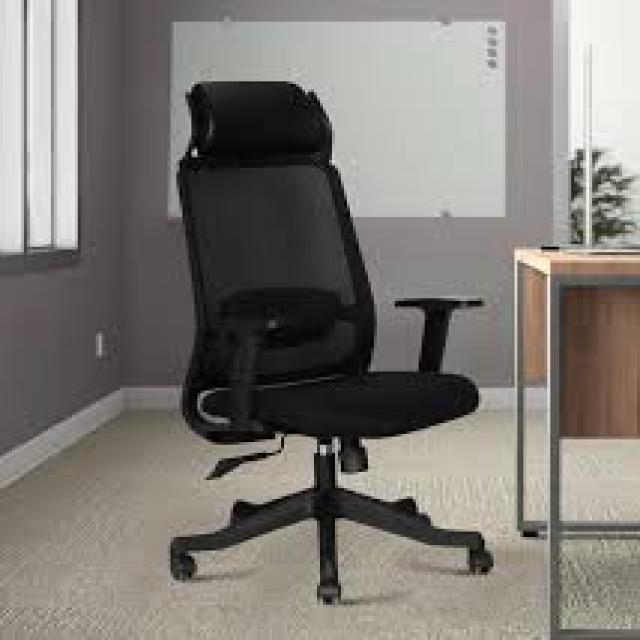chair: (99, 54, 518, 640)
